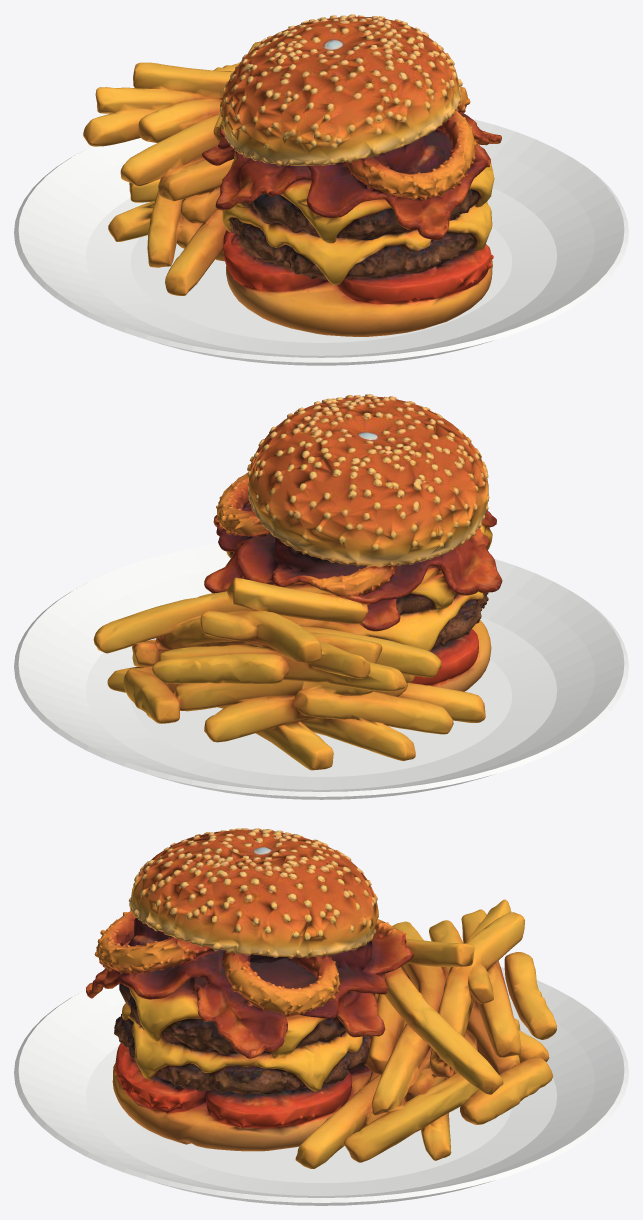
The model's file is hamburguesa_01.glb.
3 renders of one model, top to bottom at view 1: azimuth 30°, elevation 25°; view 2: azimuth 150°, elevation 25°; view 3: azimuth 270°, elevation 25°, orthographic.
Parts seen in each view (by area): view 1: comida, plato; view 2: comida, plato; view 3: comida, plato.
Boxes of the visible parts, x1=… form: comida: x1=83, y1=14, x2=501, y2=336; plato: x1=14, y1=119, x2=628, y2=365; comida: x1=93, y1=394, x2=502, y2=770; plato: x1=14, y1=543, x2=628, y2=799; comida: x1=86, y1=828, x2=556, y2=1168; plato: x1=14, y1=967, x2=628, y2=1205.
Size of the model in its own units: 0.274 by 0.131 by 0.274.
Materials: 2 (1 with a texture image).
